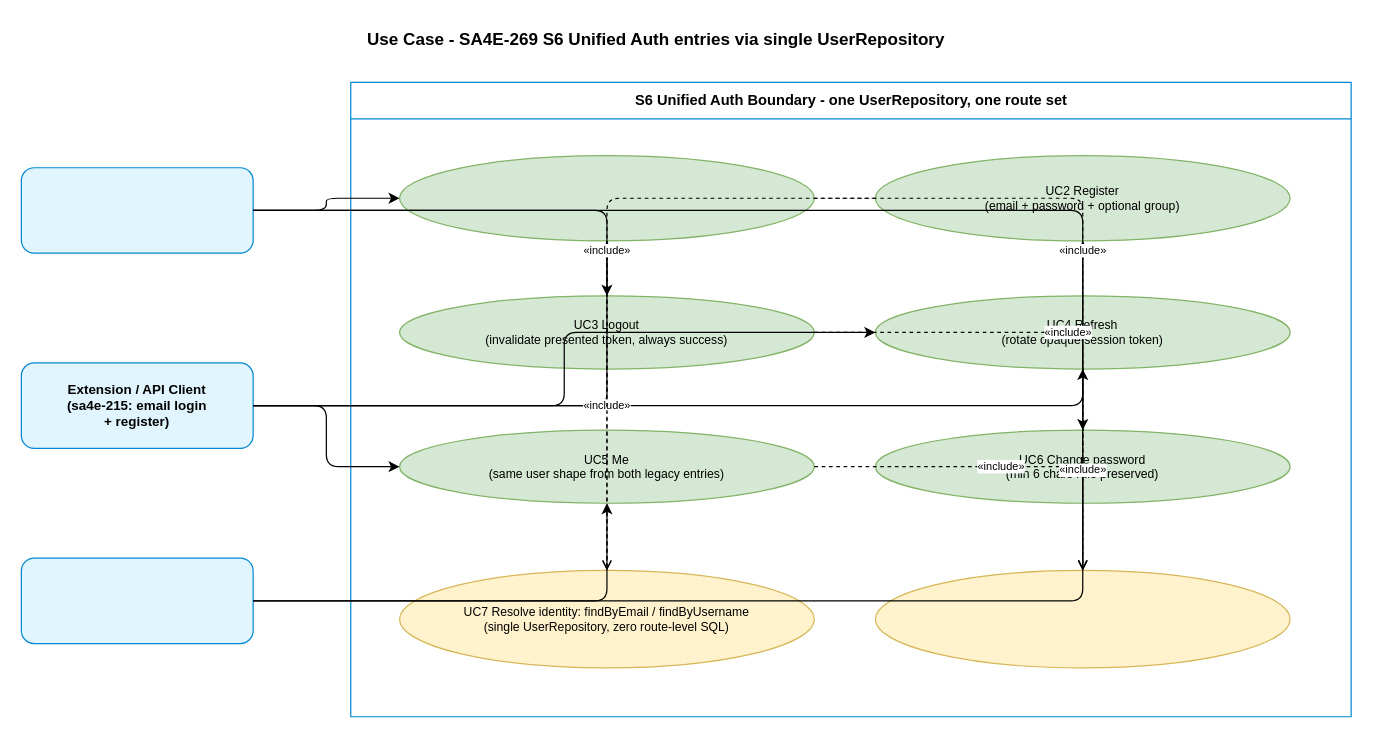
The diagram is 1373 pixels wide and 738 high, and some of its shapes have lost their labels. Each missing label, with the centre of its shape:
"Local User (admin portal: username or email)" belongs at point (136, 210).
"SSO User (Entra: no password login, session via S5 JIT)" belongs at point (136, 600).
"UC1 Login with identifier (email primary, username fallback)" belongs at point (606, 197).
"UC8 Shared session lifecycle: create / validate / rotate / invalidate" belongs at point (1082, 618).
